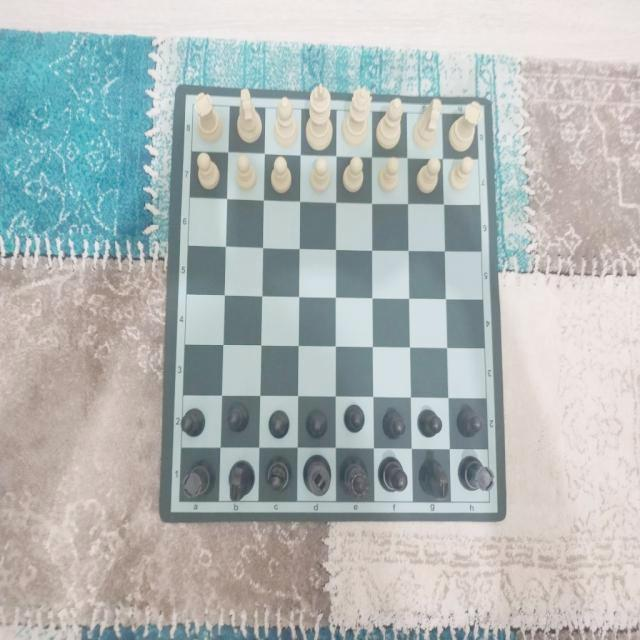chess-table-corners: (481, 492, 498, 512), (172, 493, 188, 509), (185, 98, 200, 114)
